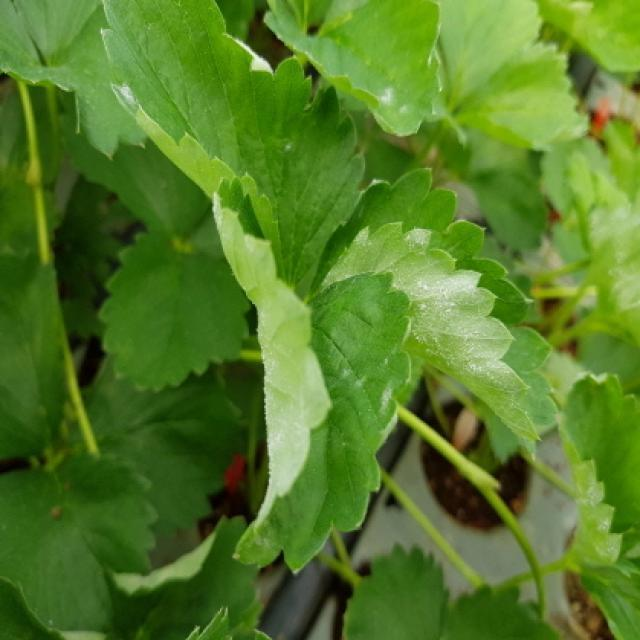powdery_mildew_leaf: (214, 172, 415, 577), (100, 0, 369, 291), (310, 164, 560, 464), (261, 0, 443, 140), (556, 370, 638, 637)
